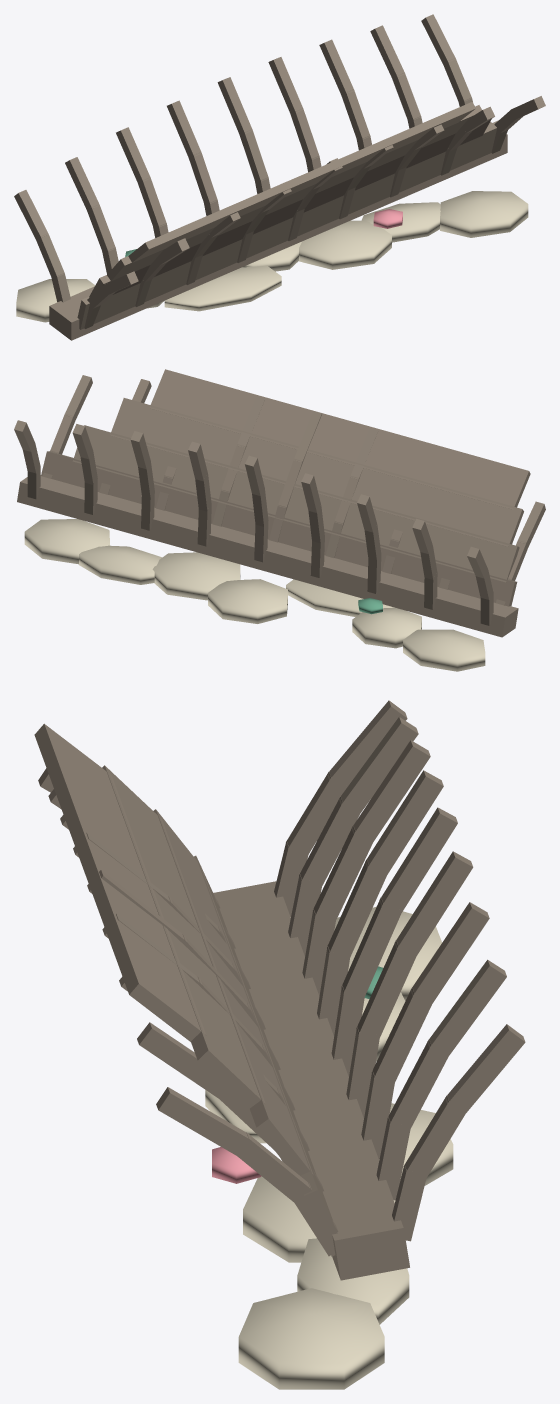
Rendered from shipwreck-hull-section.glb.
The picture shows the model from 3 angles, top to bottom: view 1: azimuth 30°, elevation 25°; view 2: azimuth 150°, elevation 25°; view 3: azimuth 270°, elevation 25°; orthographic projection. The views are drawn at different scales.
Visible parts, largest first — view 1: shipwreck-hull-section; view 2: shipwreck-hull-section; view 3: shipwreck-hull-section.
Part boxes in pixels (x1=…): shipwreck-hull-section: x1=14, y1=14, x2=545, y2=340; shipwreck-hull-section: x1=14, y1=369, x2=545, y2=671; shipwreck-hull-section: x1=34, y1=700, x2=525, y2=1389.
Bounding box in the file's own units: 8.59 × 3.12 × 3.89.
